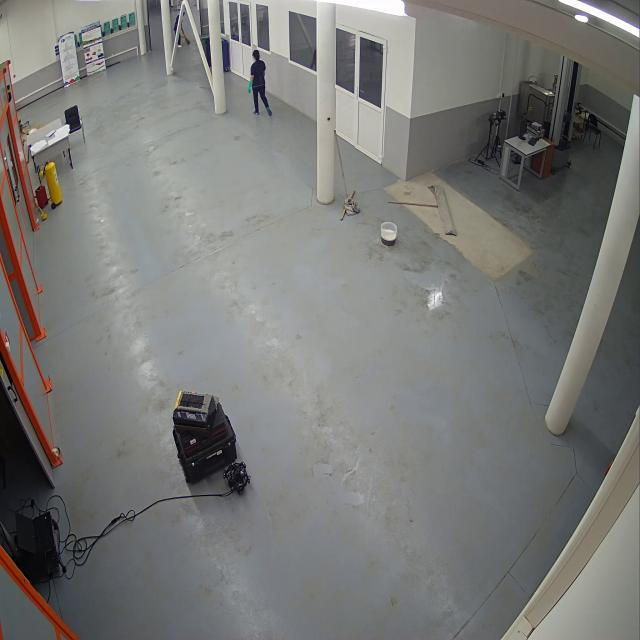NO-Hardhat: (251, 46, 260, 57)
Person: (246, 48, 278, 119), (174, 8, 192, 53)
